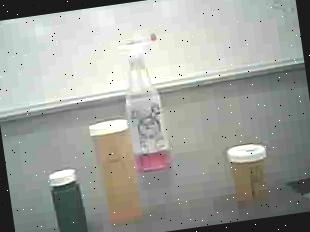Bottle A: (90, 115, 146, 224)
Bottle B: (210, 138, 277, 213)
Bottle C: (47, 161, 98, 232)
hazard: (108, 24, 184, 175)
